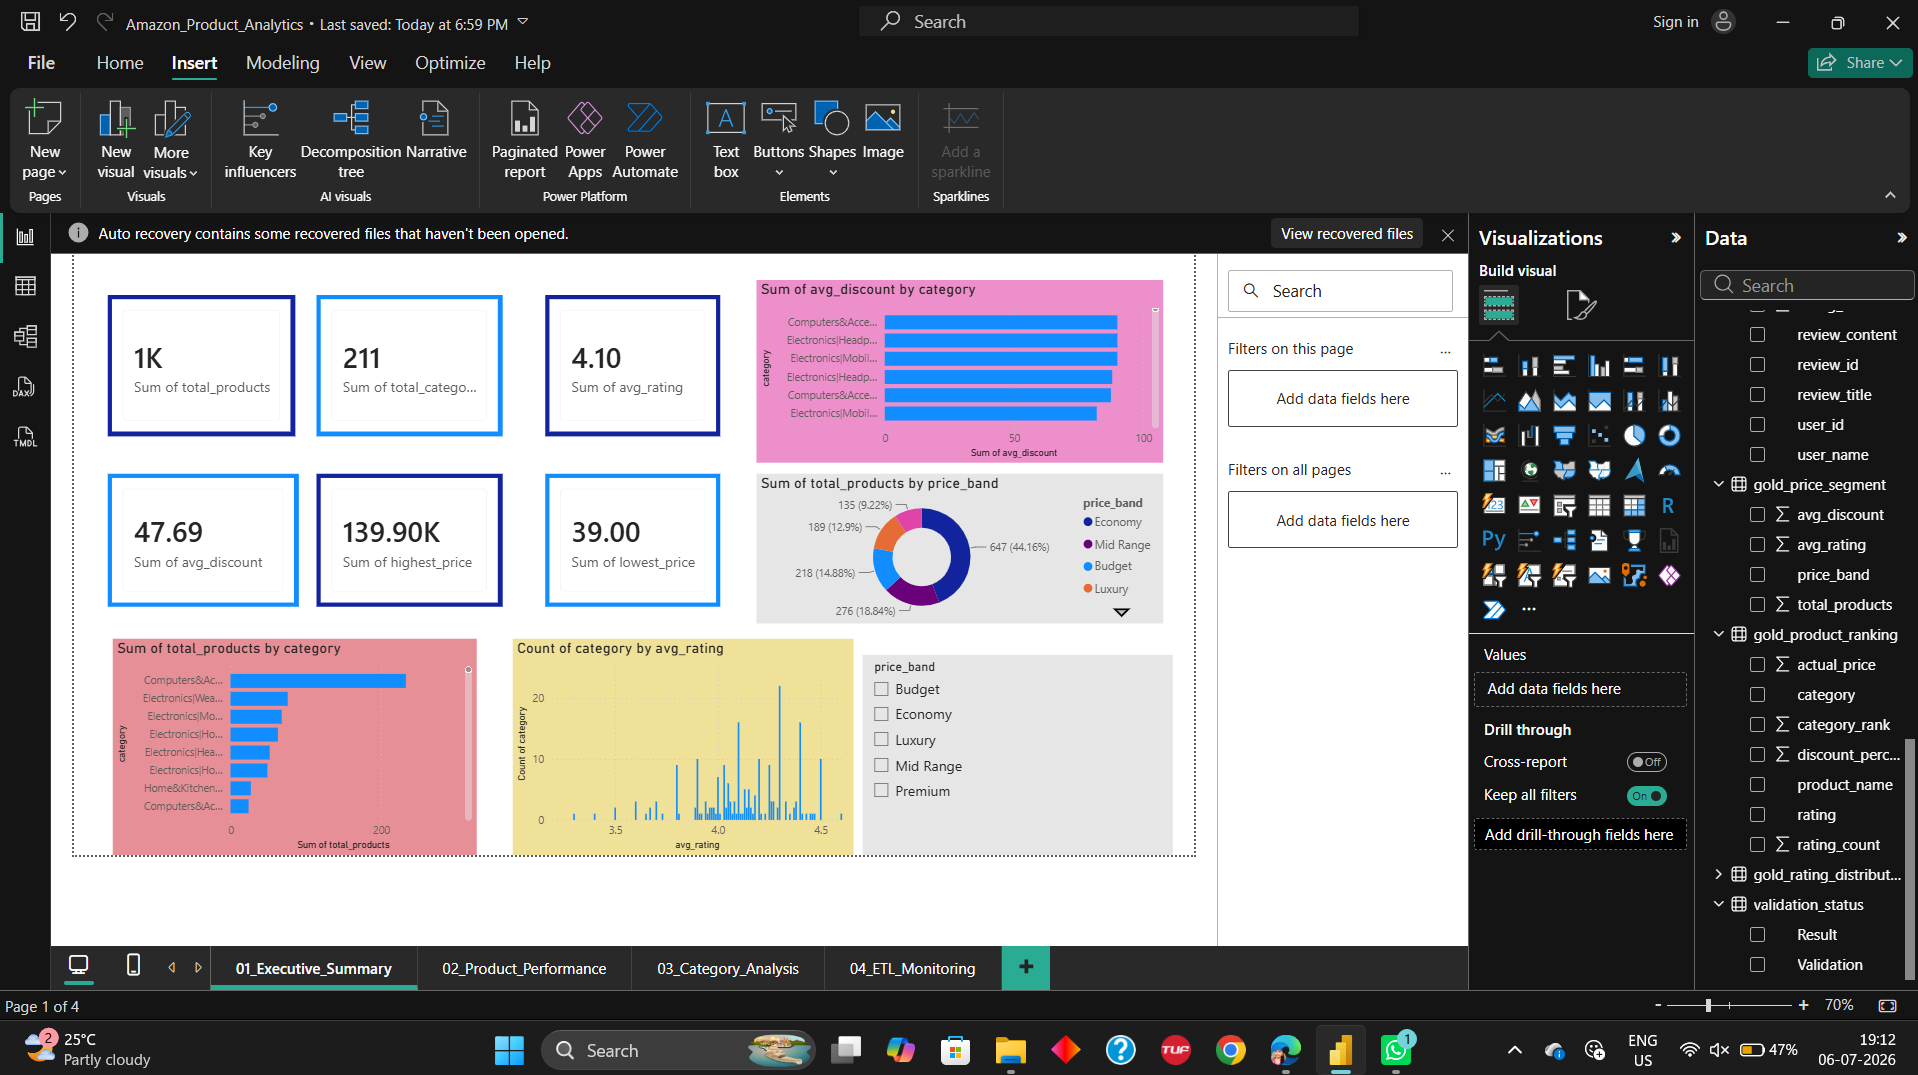

The dashboard page shown, as its layout file describes it:
{"tool":"powerbi","page":{"name":"01_Executive_Summary","canvas":[1280,720],"ordinal":0},"visuals":[{"type":"cardVisual","fields":{"Data":["Sum(gold_dashboard_kpi.total_products)"]},"box":[38.4,79.6,214.1,161.9],"z":0},{"type":"cardVisual","fields":{"Data":["Sum(gold_dashboard_kpi.avg_discount)"]},"box":[38.4,284,218.2,152.3],"z":1000},{"type":"cardVisual","fields":{"Data":["Sum(gold_dashboard_kpi.total_categories)"]},"box":[277.2,79.6,212.7,161.9],"z":2000},{"type":"cardVisual","fields":{"Data":["Sum(gold_dashboard_kpi.highest_price)"]},"box":[277.2,284,212.7,152.3],"z":3000},{"type":"cardVisual","fields":{"Data":["Sum(gold_dashboard_kpi.avg_rating)"]},"box":[539.3,79.6,200.3,161.9],"z":4000},{"type":"cardVisual","fields":{"Data":["Sum(gold_dashboard_kpi.lowest_price)"]},"box":[539.3,284,200.3,152.3],"z":5000},{"type":"clusteredBarChart","fields":{"Category":["gold_category_summary.category"],"Y":["Sum(gold_category_summary.total_products)"]},"box":[43.9,473.4,415.8,247],"z":6000},{"type":"columnChart","fields":{"Y":["CountNonNull(gold_category_summary.category)"],"Category":["gold_category_summary.avg_rating"]},"box":[500.9,473.4,389.7,247],"z":7000},{"type":"clusteredBarChart","fields":{"Category":["gold_category_summary.category"],"Y":["Sum(gold_category_summary.avg_discount)"]},"box":[779.4,63.1,465.2,208.6],"z":8000},{"type":"donutChart","fields":{"Category":["gold_price_segment.price_band"],"Y":["Sum(gold_price_segment.total_products)"]},"box":[779.4,284,465.2,171.5],"z":9000},{"type":"slicer","fields":{"Values":["gold_price_segment.price_band"]},"box":[901.5,491.3,354,229.2],"z":10000}]}

Visuals, with their boxes on the page's 1280x720 design canvas (x1, y1, x2, y2). These are canvas units, not pixel positions in the 1918x1075 screenshot, which may show the page scaled, cropped or inside an application window:
cardVisual - Sum(gold_dashboard_kpi.total_products): <region>38, 80, 252, 242</region>
cardVisual - Sum(gold_dashboard_kpi.avg_discount): <region>38, 284, 257, 436</region>
cardVisual - Sum(gold_dashboard_kpi.total_categories): <region>277, 80, 490, 242</region>
cardVisual - Sum(gold_dashboard_kpi.highest_price): <region>277, 284, 490, 436</region>
cardVisual - Sum(gold_dashboard_kpi.avg_rating): <region>539, 80, 740, 242</region>
cardVisual - Sum(gold_dashboard_kpi.lowest_price): <region>539, 284, 740, 436</region>
clusteredBarChart - gold_category_summary.category x Sum(gold_category_summary.total_products): <region>44, 473, 460, 720</region>
columnChart - CountNonNull(gold_category_summary.category) x gold_category_summary.avg_rating: <region>501, 473, 891, 720</region>
clusteredBarChart - gold_category_summary.category x Sum(gold_category_summary.avg_discount): <region>779, 63, 1245, 272</region>
donutChart - gold_price_segment.price_band x Sum(gold_price_segment.total_products): <region>779, 284, 1245, 456</region>
slicer - gold_price_segment.price_band: <region>902, 491, 1256, 720</region>
